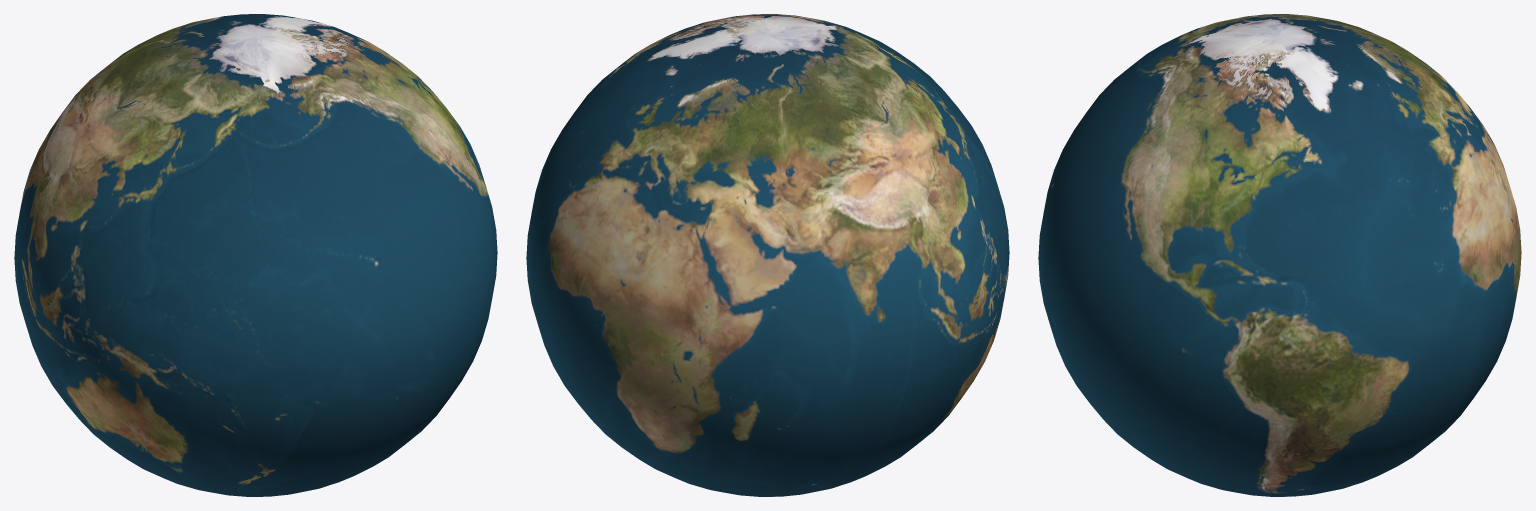
Rendered from earth.obj.
3 renders of one model, left to right at view 1: azimuth 30°, elevation 25°; view 2: azimuth 150°, elevation 25°; view 3: azimuth 270°, elevation 25°, orthographic.
Parts seen in each view (by area): view 1: pSphere1; view 2: pSphere1; view 3: pSphere1.
Boxes of the visible parts, x1,y1,x2,y2 form: pSphere1: (14,14,497,496); pSphere1: (526,14,1009,496); pSphere1: (1038,14,1521,496).
Bounding box in the file's own units: 1.99 × 2 × 2.
1 material, 1 textured.
